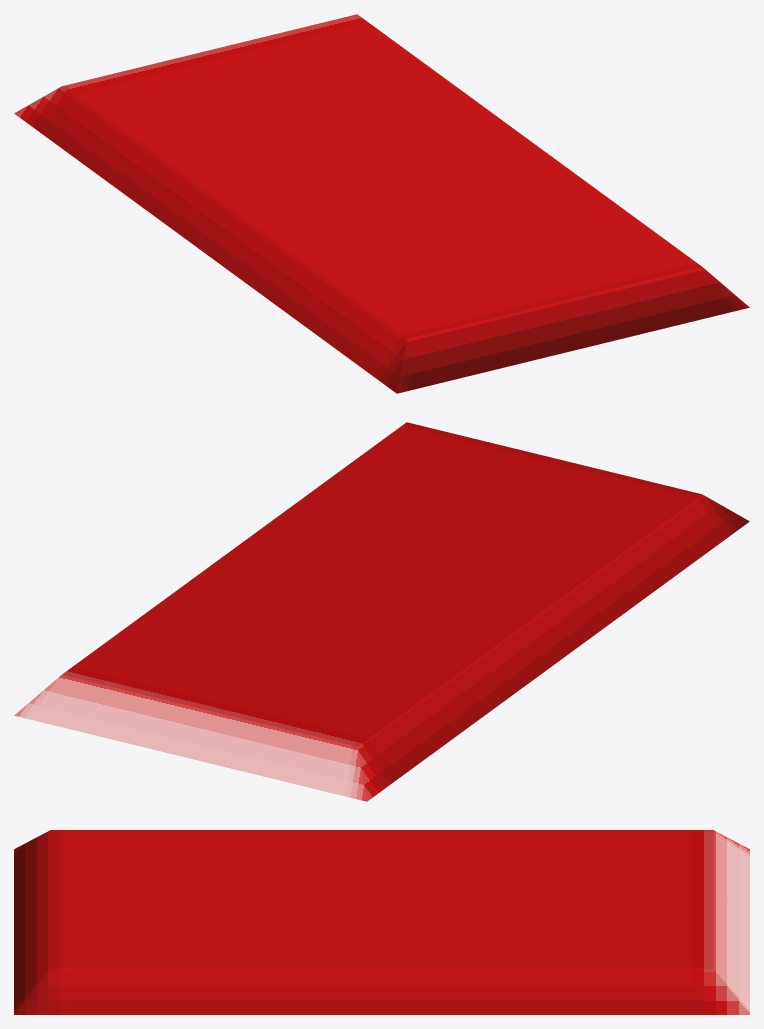
3 renders of one model, top to bottom at view 1: azimuth 30°, elevation 25°; view 2: azimuth 150°, elevation 25°; view 3: azimuth 270°, elevation 25°, orthographic. The views are drawn at different scales.
Visible parts, largest first — view 1: Box26; view 2: Box26; view 3: Box26.
Boxes of the visible parts, x1,y1,x2,y2 form: Box26: (14,14,749,393); Box26: (14,422,749,801); Box26: (14,830,749,1014).
Bounding box in the file's own units: 328 × 30.24 × 617.
Materials: 1 (1 with a texture image).
